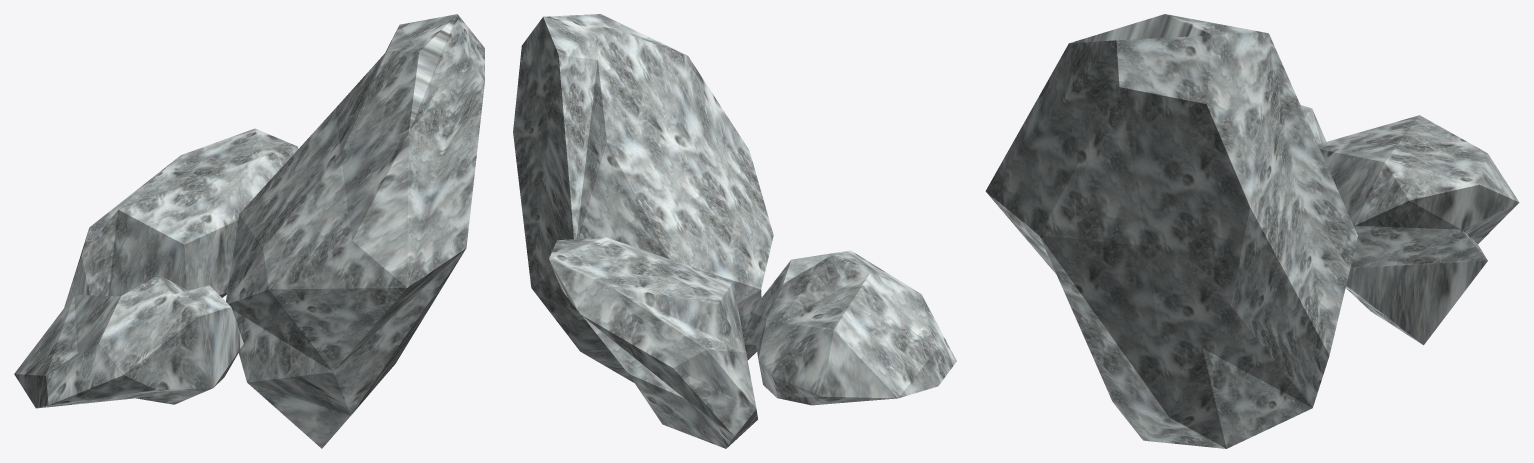
The model's file is C1SNLARGEROCKBH.obj.
The picture shows the model from 3 angles, left to right: view 1: azimuth 30°, elevation 25°; view 2: azimuth 150°, elevation 25°; view 3: azimuth 270°, elevation 25°; orthographic projection. The views are drawn at different scales.
Visible parts, largest first — view 1: Node 0; view 2: Node 0; view 3: Node 0.
Part boxes in pixels (bbox=[...]): Node 0: bbox=[14, 14, 484, 448]; Node 0: bbox=[513, 14, 956, 448]; Node 0: bbox=[985, 14, 1519, 448].
Bounding box in the file's own units: 21.09 × 16.99 × 15.94.
